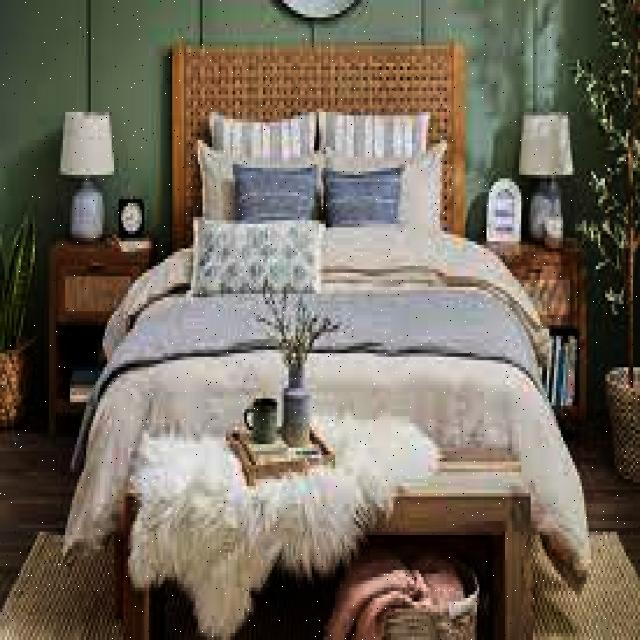bed: (85, 99, 564, 487)
